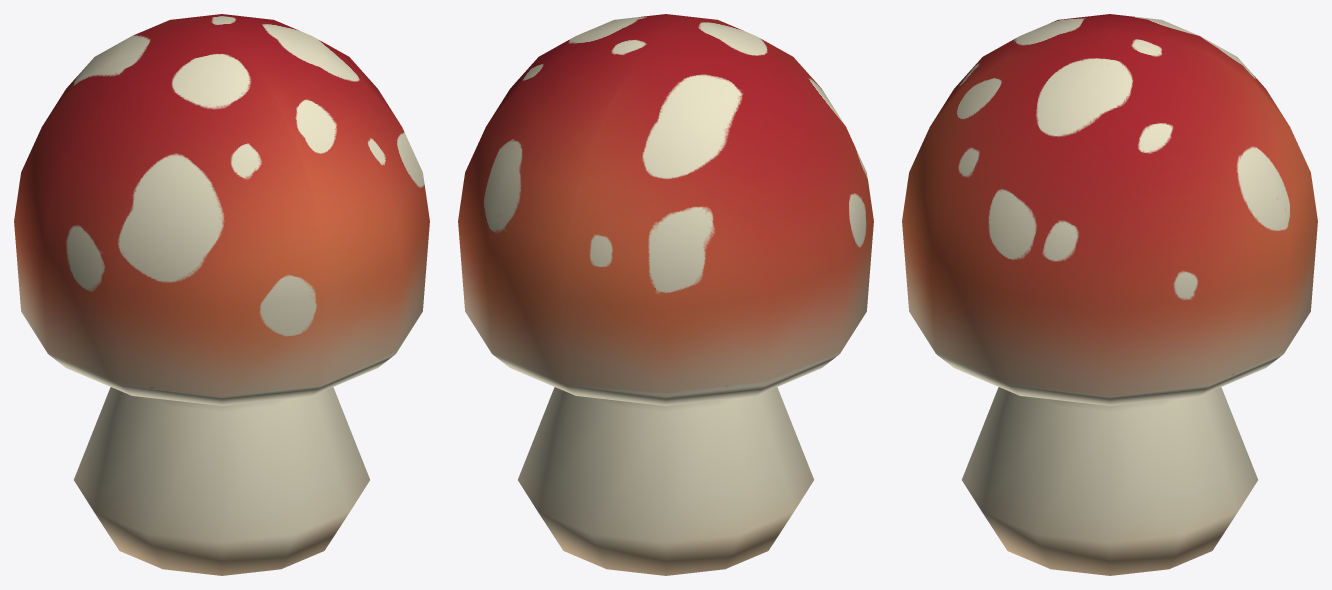
File: mushroom.fbx
3 views of the same model, side by side, from view 1: azimuth 30°, elevation 25°; view 2: azimuth 150°, elevation 25°; view 3: azimuth 270°, elevation 25° (orthographic).
Parts seen in each view (by area): view 1: pSphere1; view 2: pSphere1; view 3: pSphere1.
Boxes of the visible parts, left/top/right/bottom form: pSphere1: left=14, top=14, right=429, bottom=575; pSphere1: left=458, top=14, right=873, bottom=575; pSphere1: left=902, top=14, right=1317, bottom=575.
Bounding box in the file's own units: 2 × 2.62 × 2.
1 material, 1 textured.
